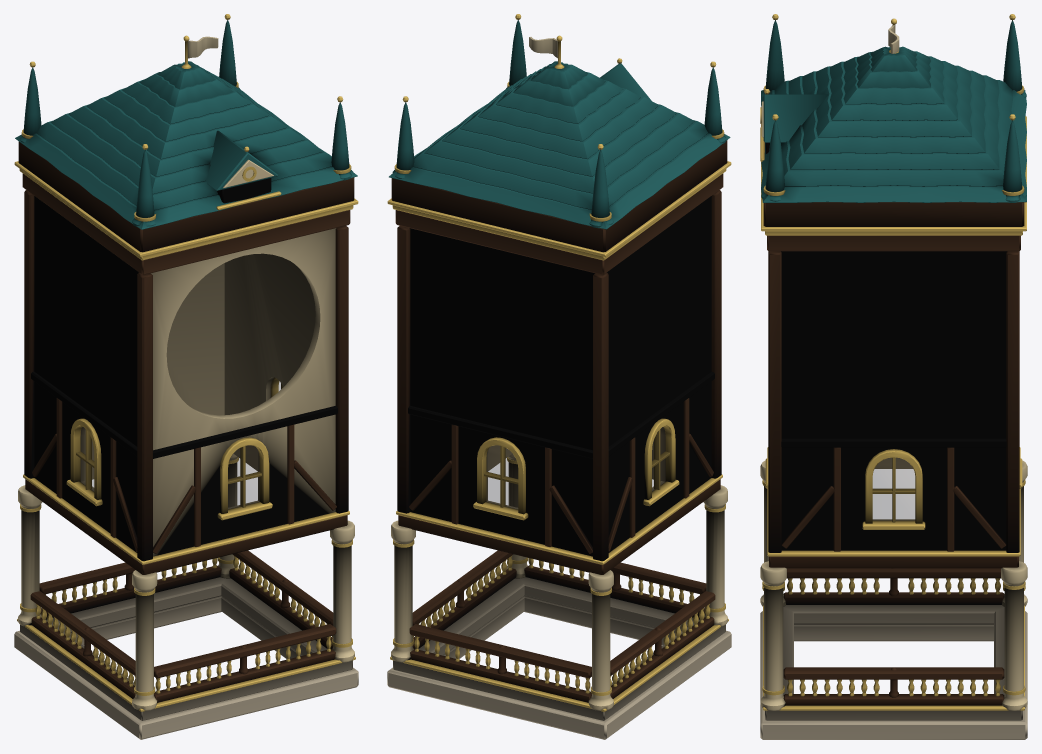
The model's file is clock_tower_shell.glb.
The picture shows the model from 3 angles, left to right: view 1: azimuth 30°, elevation 25°; view 2: azimuth 150°, elevation 25°; view 3: azimuth 270°, elevation 25°; orthographic projection. The views are drawn at different scales.
Parts seen in each view (by area): view 1: ClockTower_MiddleRing, ClockTower_RoofTiles, ClockTower_LowerRing, ClockTower_BalconyFrame, ClockTower_UpperRing, ClockTower_Pillar, ClockTower_Window, ClockTower_Railing, ClockTower_Spire, ClockTower_RoofArch, ClockTower_Flag; view 2: ClockTower_MiddleRing, ClockTower_RoofTiles, ClockTower_LowerRing, ClockTower_BalconyFrame, ClockTower_UpperRing, ClockTower_Pillar, ClockTower_Window, ClockTower_Railing, ClockTower_Spire, ClockTower_RoofArch, ClockTower_Flag; view 3: ClockTower_MiddleRing, ClockTower_RoofTiles, ClockTower_LowerRing, ClockTower_BalconyFrame, ClockTower_UpperRing, ClockTower_Pillar, ClockTower_Window, ClockTower_Spire, ClockTower_Railing, ClockTower_RoofArch.
Part boxes in pixels (x1,y1,x2,y2): ClockTower_MiddleRing: [19, 169, 353, 574]; ClockTower_RoofTiles: [15, 61, 357, 229]; ClockTower_LowerRing: [14, 577, 358, 739]; ClockTower_BalconyFrame: [30, 550, 336, 702]; ClockTower_UpperRing: [14, 141, 358, 256]; ClockTower_Pillar: [18, 453, 354, 710]; ClockTower_Window: [66, 377, 283, 520]; ClockTower_Railing: [35, 555, 333, 693]; ClockTower_Spire: [19, 14, 352, 227]; ClockTower_RoofArch: [206, 130, 281, 210]; ClockTower_Flag: [181, 35, 218, 68]; ClockTower_MiddleRing: [392, 169, 726, 574]; ClockTower_RoofTiles: [389, 61, 730, 229]; ClockTower_LowerRing: [387, 577, 731, 739]; ClockTower_BalconyFrame: [409, 550, 715, 702]; ClockTower_UpperRing: [387, 140, 731, 256]; ClockTower_Pillar: [391, 453, 727, 710]; ClockTower_Window: [473, 418, 679, 520]; ClockTower_Railing: [412, 555, 710, 693]; ClockTower_Spire: [392, 14, 726, 228]; ClockTower_RoofArch: [600, 58, 651, 100]; ClockTower_Flag: [529, 35, 564, 68]; ClockTower_MiddleRing: [765, 231, 1022, 568]; ClockTower_RoofTiles: [761, 46, 1026, 202]; ClockTower_LowerRing: [760, 605, 1027, 739]; ClockTower_BalconyFrame: [783, 568, 1004, 705]; ClockTower_UpperRing: [761, 116, 1026, 231]; ClockTower_Pillar: [760, 460, 1027, 710]; ClockTower_Window: [765, 449, 1022, 529]; ClockTower_Spire: [761, 14, 1026, 202]; ClockTower_Railing: [787, 578, 1000, 696]; ClockTower_RoofArch: [760, 89, 828, 161].
Size of the model in its own units: 0.08 by 0.22 by 0.08.
